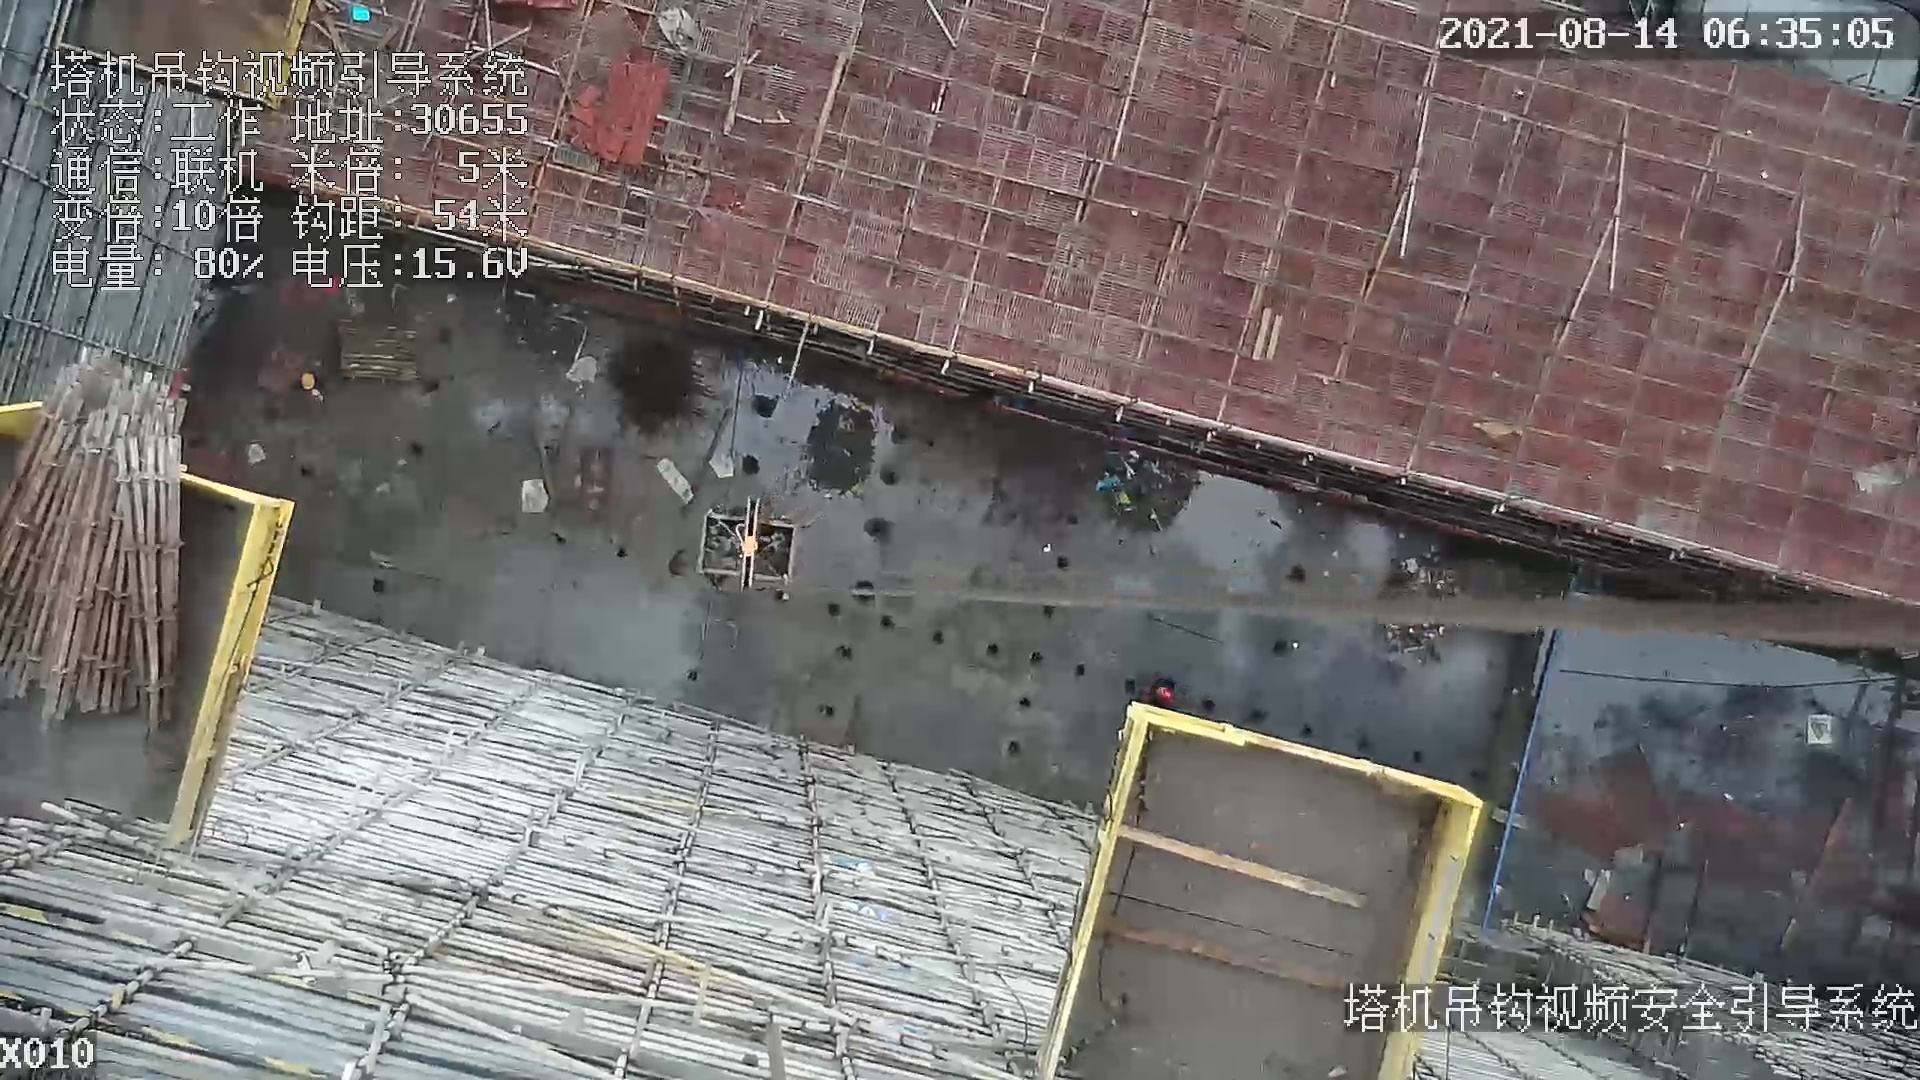helmet: (297, 371, 316, 392), (1160, 686, 1178, 707)
hook: (731, 495, 752, 596)
hopper: (682, 513, 806, 592)
scaffold: (11, 338, 196, 769)
